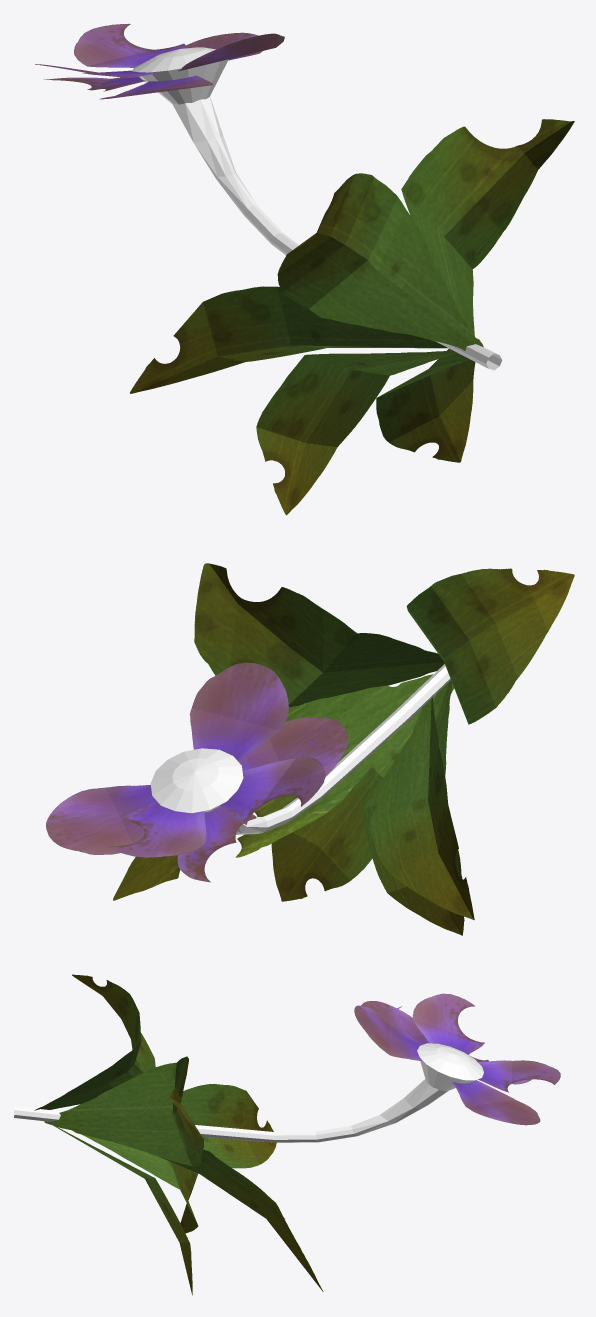
File: FlowerPinkCb.fbx
3 views of the same model, one above another, from view 1: azimuth 30°, elevation 25°; view 2: azimuth 150°, elevation 25°; view 3: azimuth 270°, elevation 25° (orthographic). The views are drawn at different scales.
Visible parts, largest first — view 1: w5_gismo_FlowerPinkCb; view 2: w5_gismo_FlowerPinkCb; view 3: w5_gismo_FlowerPinkCb.
Boxes of the visible parts, x1,y1,x2,y2 form: w5_gismo_FlowerPinkCb: [35, 23, 574, 515]; w5_gismo_FlowerPinkCb: [46, 563, 574, 935]; w5_gismo_FlowerPinkCb: [14, 974, 560, 1295].
Bounding box in the file's own units: 0.8133 × 1.5 × 0.7976.
2 materials, 1 textured.
